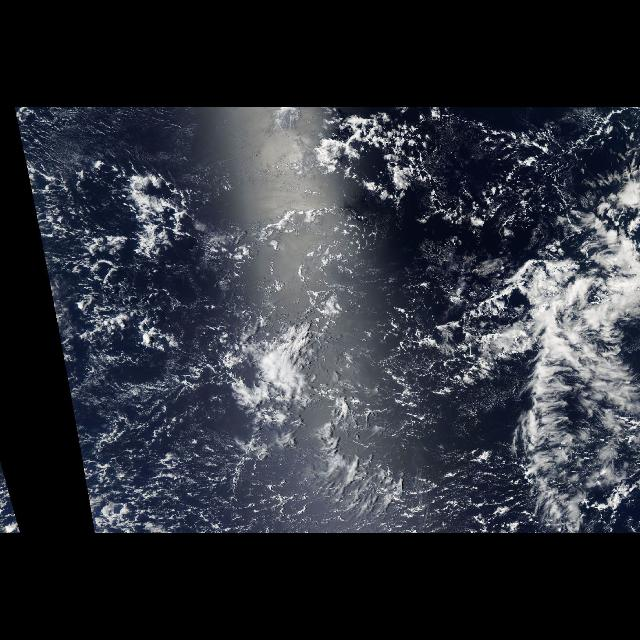Gravel: (17, 115, 199, 382), (77, 386, 367, 532)
